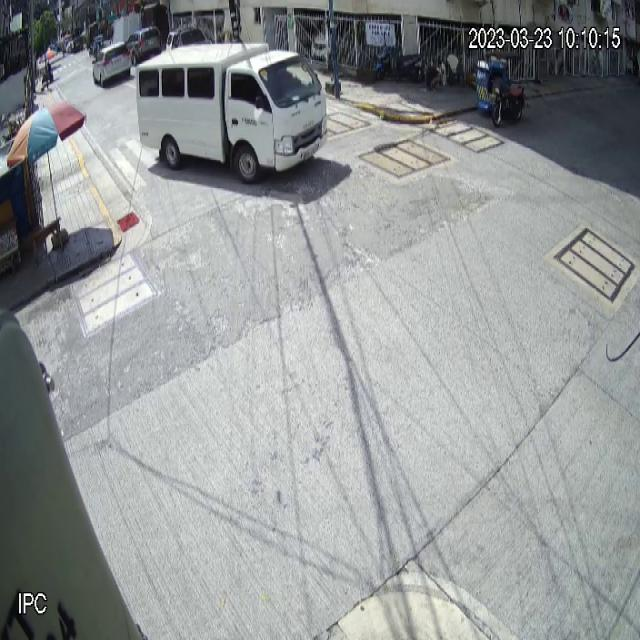Tricycle: (475, 50, 527, 128)
Van: (134, 39, 328, 184)
